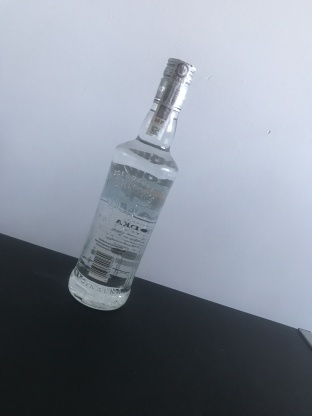nakretka: (151, 53, 197, 115)
